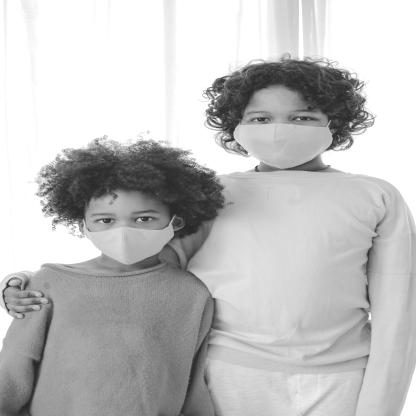dress: (164, 164, 416, 416), (0, 263, 223, 416), (80, 216, 181, 265), (239, 119, 332, 169)
